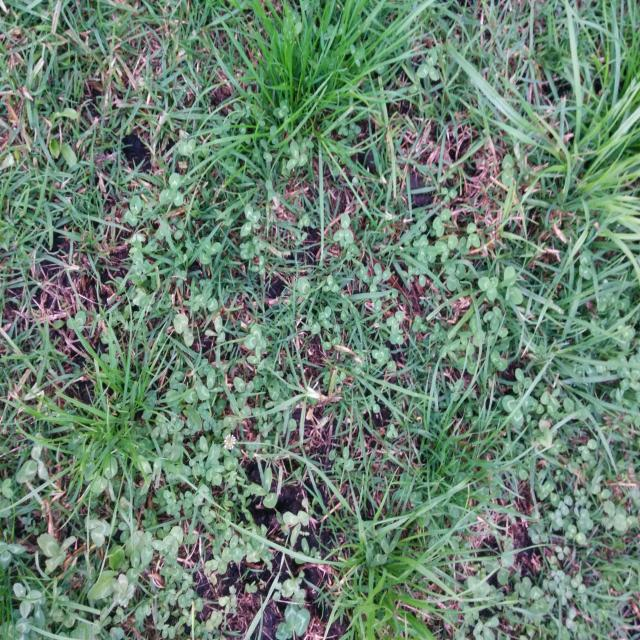Four Leaf Clover: (240, 204, 260, 236)
